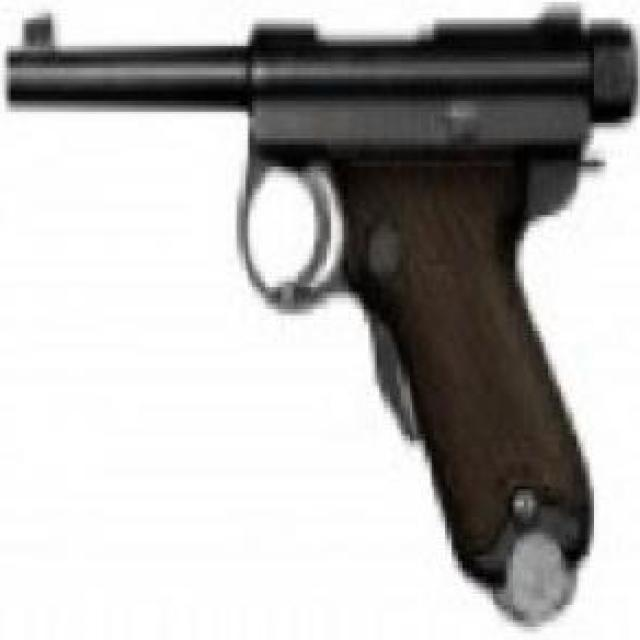pistol: (7, 9, 631, 628)
